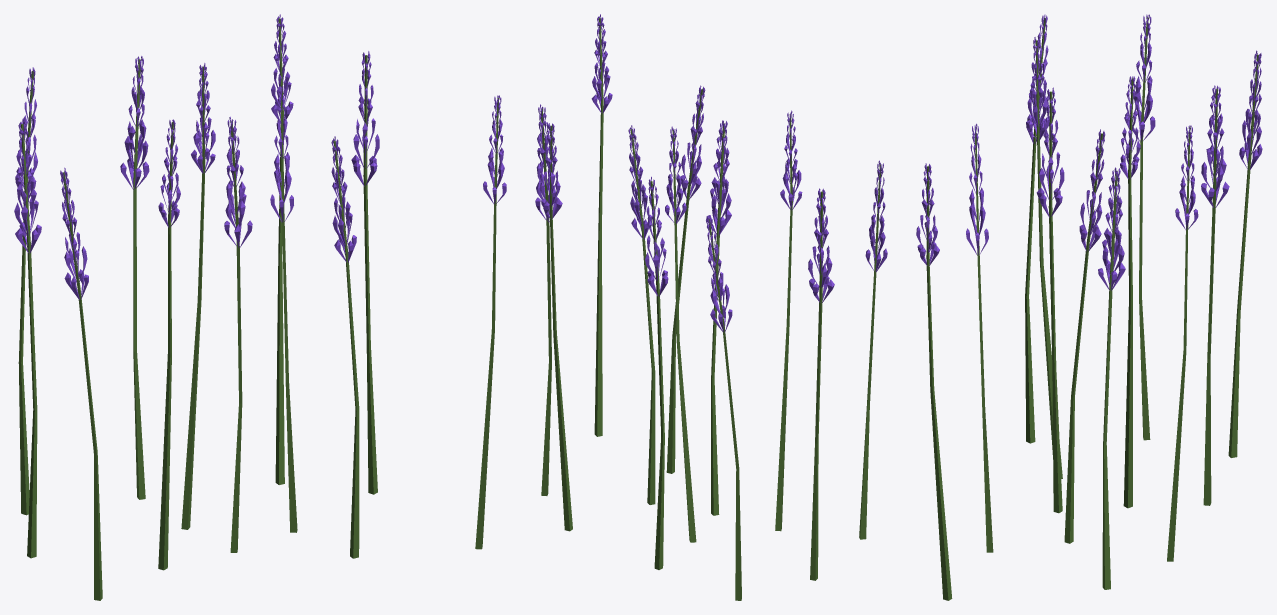
Rendered from Flower 1_2.fbx.
The picture shows the model from 3 angles, left to right: view 1: azimuth 30°, elevation 25°; view 2: azimuth 150°, elevation 25°; view 3: azimuth 270°, elevation 25°; orthographic projection. The views are drawn at different scales.
Parts seen in each view (by area): view 1: Flower 1_2; view 2: Flower 1_2; view 3: Flower 1_2.
Boxes of the visible parts, left/top/right/bottom form: Flower 1_2: left=14, top=14, right=506, bottom=600; Flower 1_2: left=535, top=14, right=887, bottom=600; Flower 1_2: left=916, top=14, right=1262, bottom=600.
Size of the model in its own units: 1.19 by 1.36 by 0.9671.
